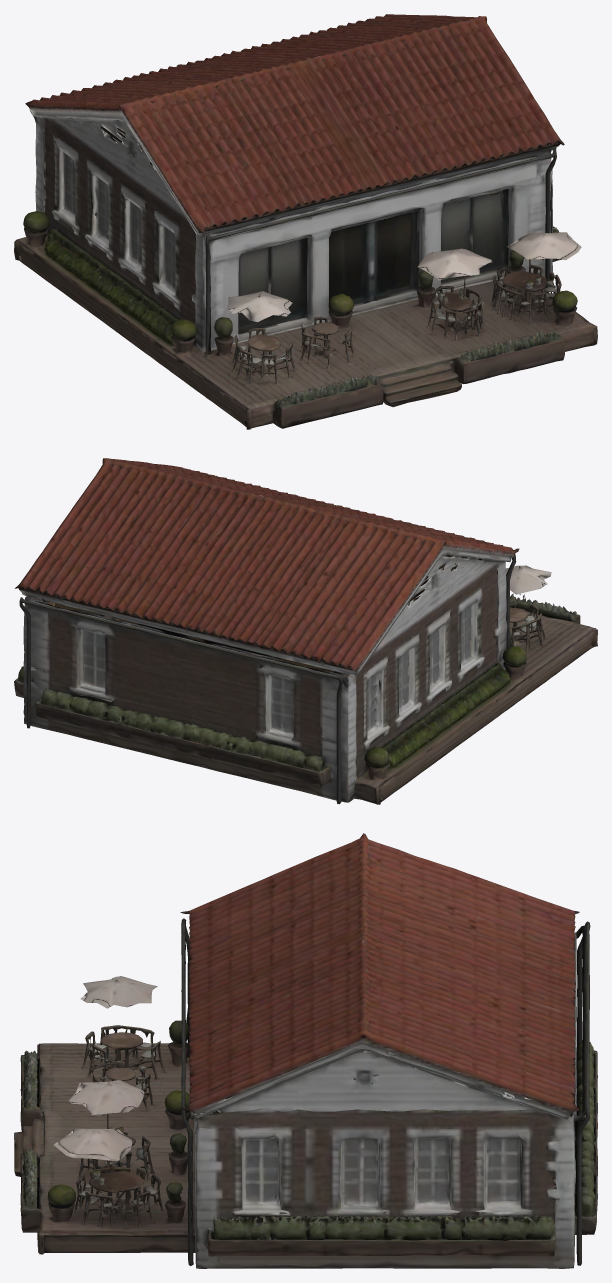
The model's file is country.glb.
The picture shows the model from 3 angles, top to bottom: view 1: azimuth 30°, elevation 25°; view 2: azimuth 150°, elevation 25°; view 3: azimuth 270°, elevation 25°; orthographic projection. The views are drawn at different scales.
Bounding box in the file's own units: 0.8723 × 0.4595 × 0.9953.
Materials: 1 (1 with a texture image).
